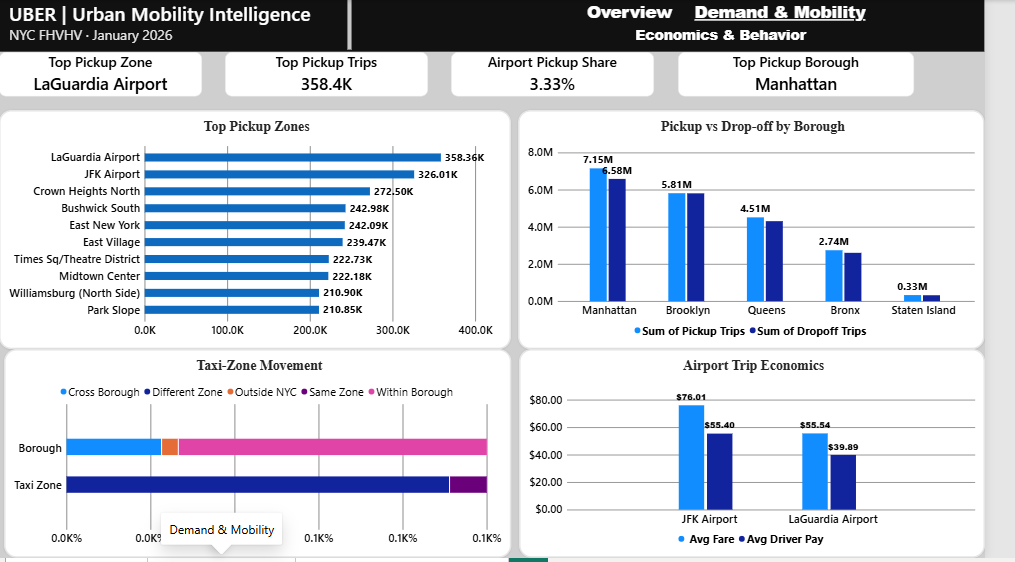

What the dashboard file says about the page in this screenshot:
{"tool":"powerbi","page":{"name":"Demand & Mobility","canvas":[1920,1080],"ordinal":1},"visuals":[{"type":"shape","title":"UBER | Urban Mobility Intelligence","box":[10.6,0,1909,100],"z":0},{"type":"textbox","box":[31.9,0,663.3,99.9],"z":1000},{"type":"textbox","box":[1148,0,168,51],"z":2000},{"type":"textbox","box":[1350,0,344.4,51],"z":3000},{"type":"textbox","box":[1179.9,48.9,455,51],"z":4000},{"type":"textbox","box":[1330.2,232.6,332.6,48.8],"z":5000},{"type":"textbox","box":[1444.2,281.4,127.9,65.1],"z":6000},{"type":"textbox","box":[1388.4,346.5,216.3,60.5],"z":7000},{"type":"textbox","box":[1330.2,407,311.6,132.6],"z":8000},{"type":"textbox","box":[1290.7,565.1,490.7,111.6],"z":9000},{"type":"cardVisual","title":"Total Trips","fields":{"Data":["Pickup_Zone_Demand.Top Pickup Zone"]},"box":[10.7,100.8,392.6,85.8],"z":10000},{"type":"cardVisual","title":"Total Trips","fields":{"Data":["Pickup_Zone_Demand.Top Pickup Trips"]},"box":[449.1,100.8,392.6,85.8],"z":11000},{"type":"cardVisual","title":"Total Trips","fields":{"Data":["Airport_Analysis.Airport Pickup Share"]},"box":[887.4,100.8,392.6,85.8],"z":12000},{"type":"cardVisual","title":"Total Trips","fields":{"Data":["Airport_Analysis.Top Pickup Borough"]},"box":[1325.8,100.8,456.9,85.8],"z":13000},{"type":"clusteredBarChart","title":"Top Pickup Zones","fields":{"Category":["Pickup_Zone_Demand.Zone"],"Y":["Sum(Pickup_Zone_Demand.Pickup Trips)"]},"box":[10.7,212.4,991.1,463.4],"z":14000},{"type":"clusteredColumnChart","title":"Pickup vs Drop-off by Borough","fields":{"Category":["Dropoff_Zone_Demand.Borough"],"Y":["Sum(Pickup_Zone_Demand.Pickup Trips)","Sum(Dropoff_Zone_Demand.Dropoff Trips)"]},"box":[1016.8,212.4,903.2,463.4],"z":15000},{"type":"hundredPercentStackedBarChart","title":"Taxi-Zone Movement","fields":{"Category":["Mobility_Structure.Level"],"Series":["Mobility_Structure.Movement Type"],"Y":["Sum(Mobility_Structure.Total Trips)"]},"box":[21.1,676.1,982.4,404.1],"z":16000},{"type":"clusteredColumnChart","title":"Airport Trip Economics","fields":{"Category":["Airport_Analysis.Airport"],"Y":["Sum(Airport_Analysis.Avg Fare)","Sum(Airport_Analysis.Avg Driver Pay)"]},"box":[1017.4,676.1,902.2,404.3],"z":17000}]}

Visuals, with their boxes in screenshot pixels (x1, y1, x2, y2), scaled from the page's 1920x1080 canvas onto the 1015x562 screenshot:
"UBER | Urban Mobility Intelligence" shape: <bbox>6, 0, 1014, 52</bbox>
textbox: <bbox>17, 0, 368, 52</bbox>
textbox: <bbox>607, 0, 696, 27</bbox>
textbox: <bbox>714, 0, 896, 27</bbox>
textbox: <bbox>624, 25, 864, 52</bbox>
textbox: <bbox>703, 121, 879, 146</bbox>
textbox: <bbox>763, 146, 831, 180</bbox>
textbox: <bbox>734, 180, 848, 212</bbox>
textbox: <bbox>703, 212, 868, 281</bbox>
textbox: <bbox>682, 294, 942, 352</bbox>
"Total Trips" cardVisual: <bbox>6, 52, 213, 97</bbox>
"Total Trips" cardVisual: <bbox>237, 52, 445, 97</bbox>
"Total Trips" cardVisual: <bbox>469, 52, 677, 97</bbox>
"Total Trips" cardVisual: <bbox>701, 52, 942, 97</bbox>
"Top Pickup Zones" clusteredBarChart: <bbox>6, 111, 530, 352</bbox>
"Pickup vs Drop-off by Borough" clusteredColumnChart: <bbox>538, 111, 1014, 352</bbox>
"Taxi-Zone Movement" hundredPercentStackedBarChart: <bbox>11, 352, 530, 561</bbox>
"Airport Trip Economics" clusteredColumnChart: <bbox>538, 352, 1014, 561</bbox>
